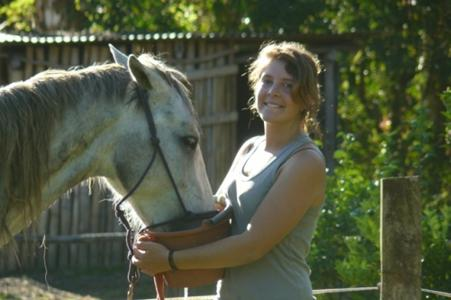person: (129, 41, 328, 300)
